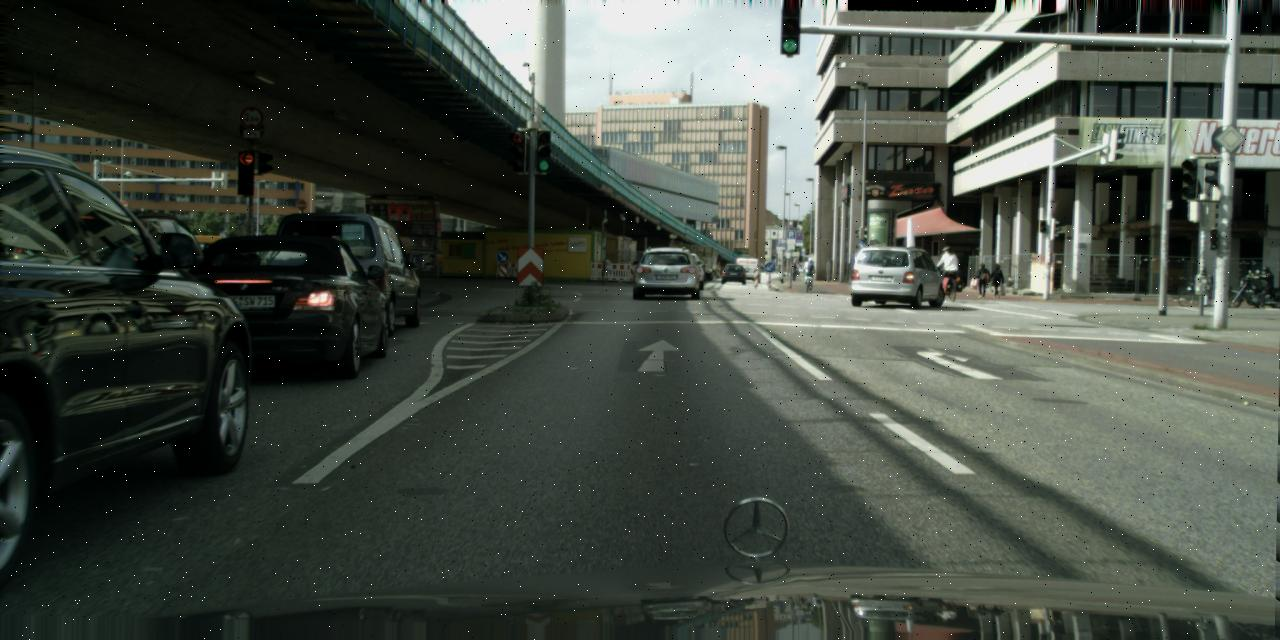ped: (937, 246, 955, 290), (1254, 266, 1270, 309), (988, 262, 1003, 298), (974, 262, 988, 299), (802, 256, 814, 285)
